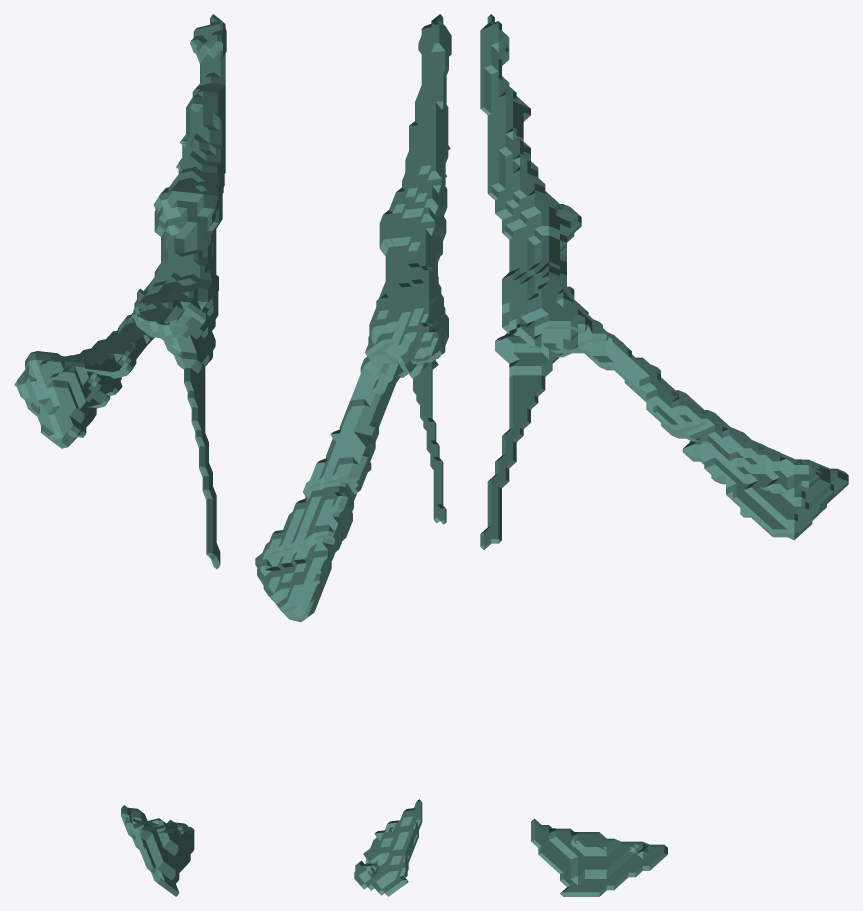
Rendered from region_0129_RV__rhombencephalic_ventricle_.glb.
3 renders of one model, left to right at view 1: azimuth 30°, elevation 25°; view 2: azimuth 150°, elevation 25°; view 3: azimuth 270°, elevation 25°, orthographic. The views are drawn at different scales.
Visible parts, largest first — view 1: world; view 2: world; view 3: world.
Boxes of the visible parts, x1,y1,x2,y2 form: world: (14,14,226,896); world: (255,14,451,896); world: (480,14,848,896).
Size of the model in its own units: 0.096 by 1.08 by 0.408.
